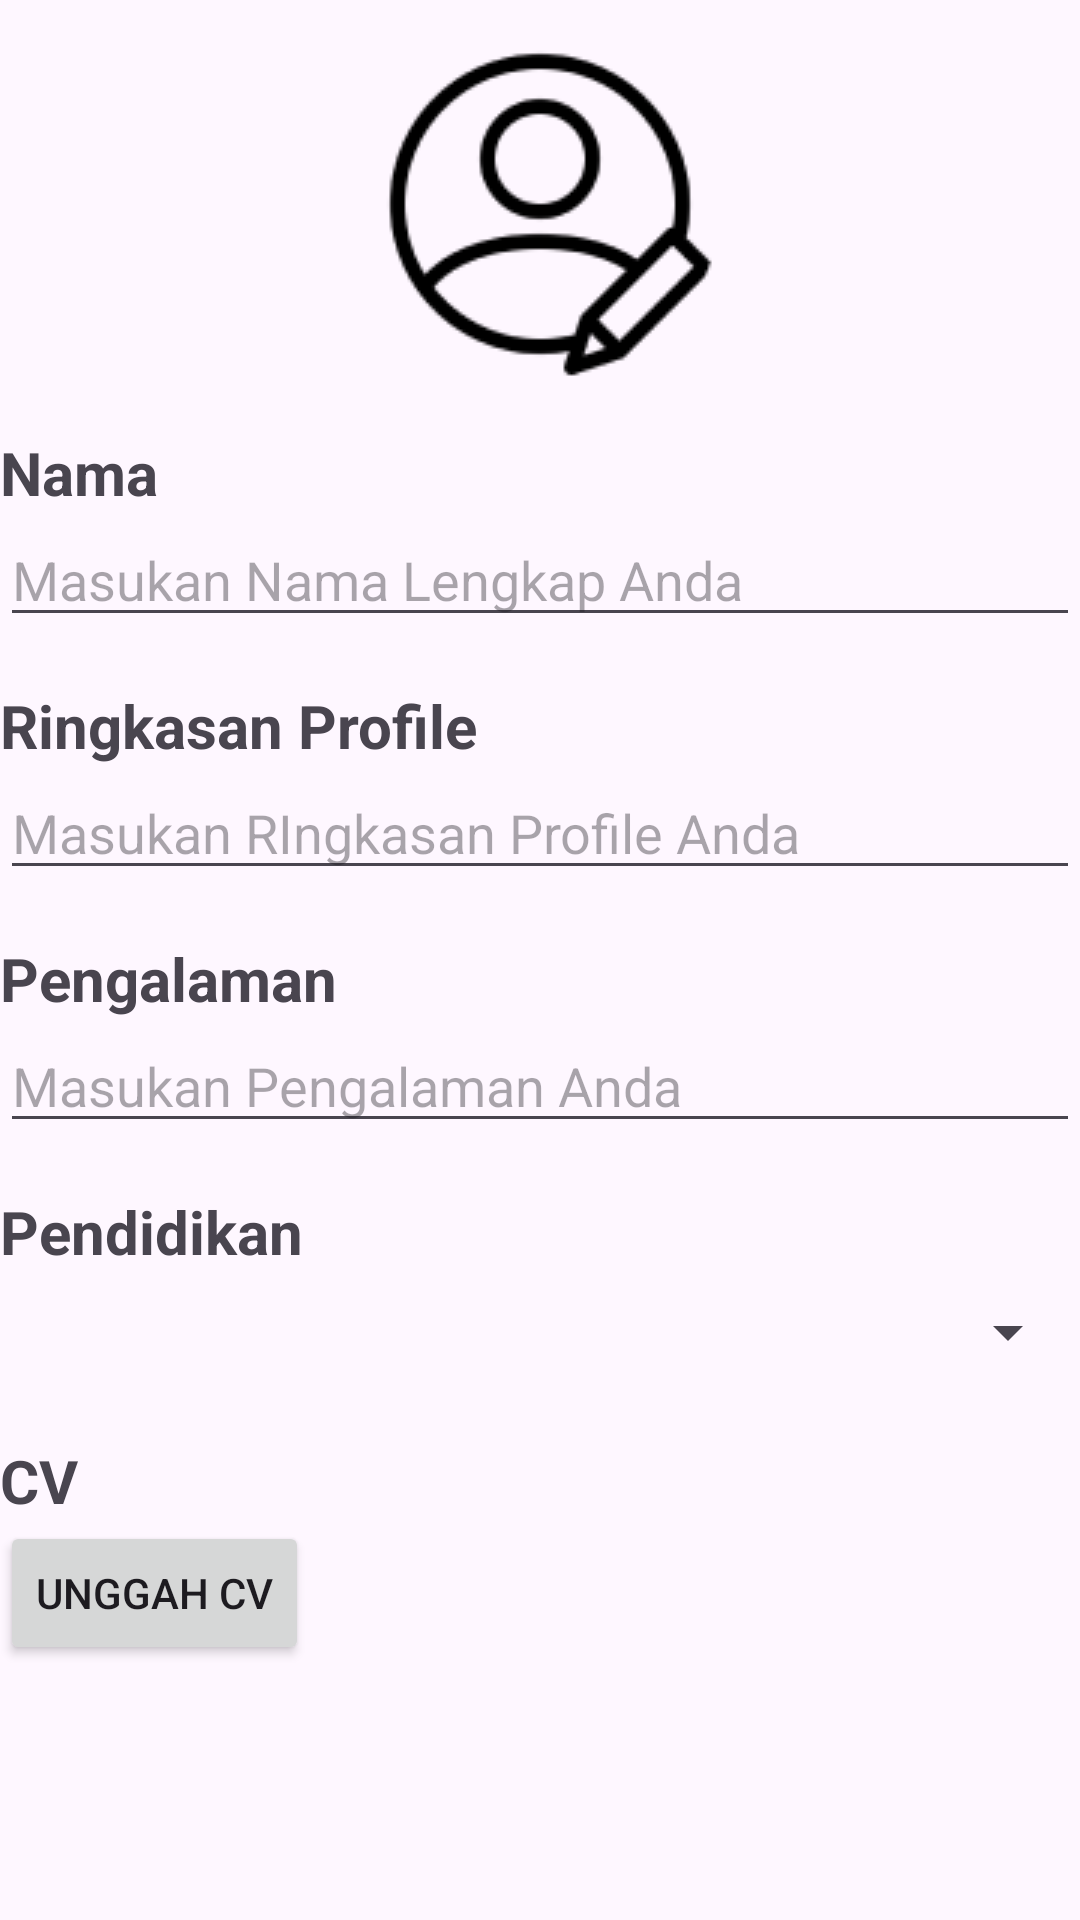

Screen size 1080w x 1920h. Icon name, then its box in pixels as (left=x1, top=y1, right=x2, bottom=y2):
profile: (left=389, top=53, right=712, bottom=376)
